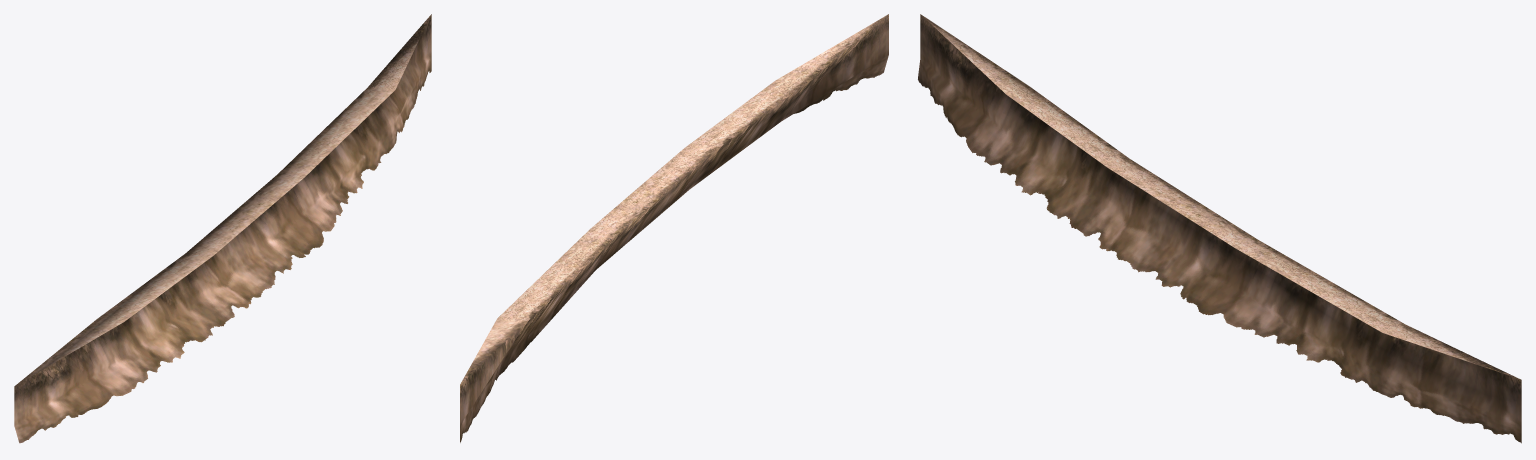
Rendered from OVERHILL_A_01_LINE23.fbx.
The picture shows the model from 3 angles, left to right: view 1: azimuth 30°, elevation 25°; view 2: azimuth 210°, elevation 25°; view 3: azimuth 270°, elevation 25°; orthographic projection. The views are drawn at different scales.
Visible parts, largest first — view 1: OVERHILL_A_01_LINE23; view 2: OVERHILL_A_01_LINE23; view 3: OVERHILL_A_01_LINE23.
Part boxes in pixels (x1,y1,x2,y2): OVERHILL_A_01_LINE23: (14,14,431,443); OVERHILL_A_01_LINE23: (460,14,888,442); OVERHILL_A_01_LINE23: (918,14,1521,443).
Size of the model in its own units: 58533 by 5329 by 40140.
Materials: 1 (1 with a texture image).
